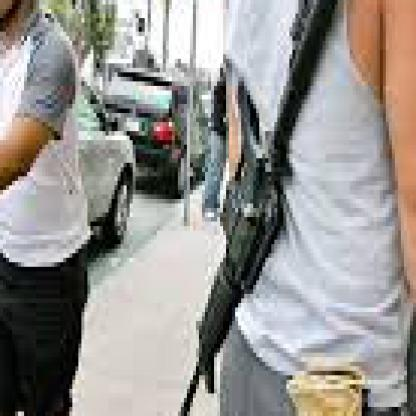gun: (226, 129, 335, 245)
